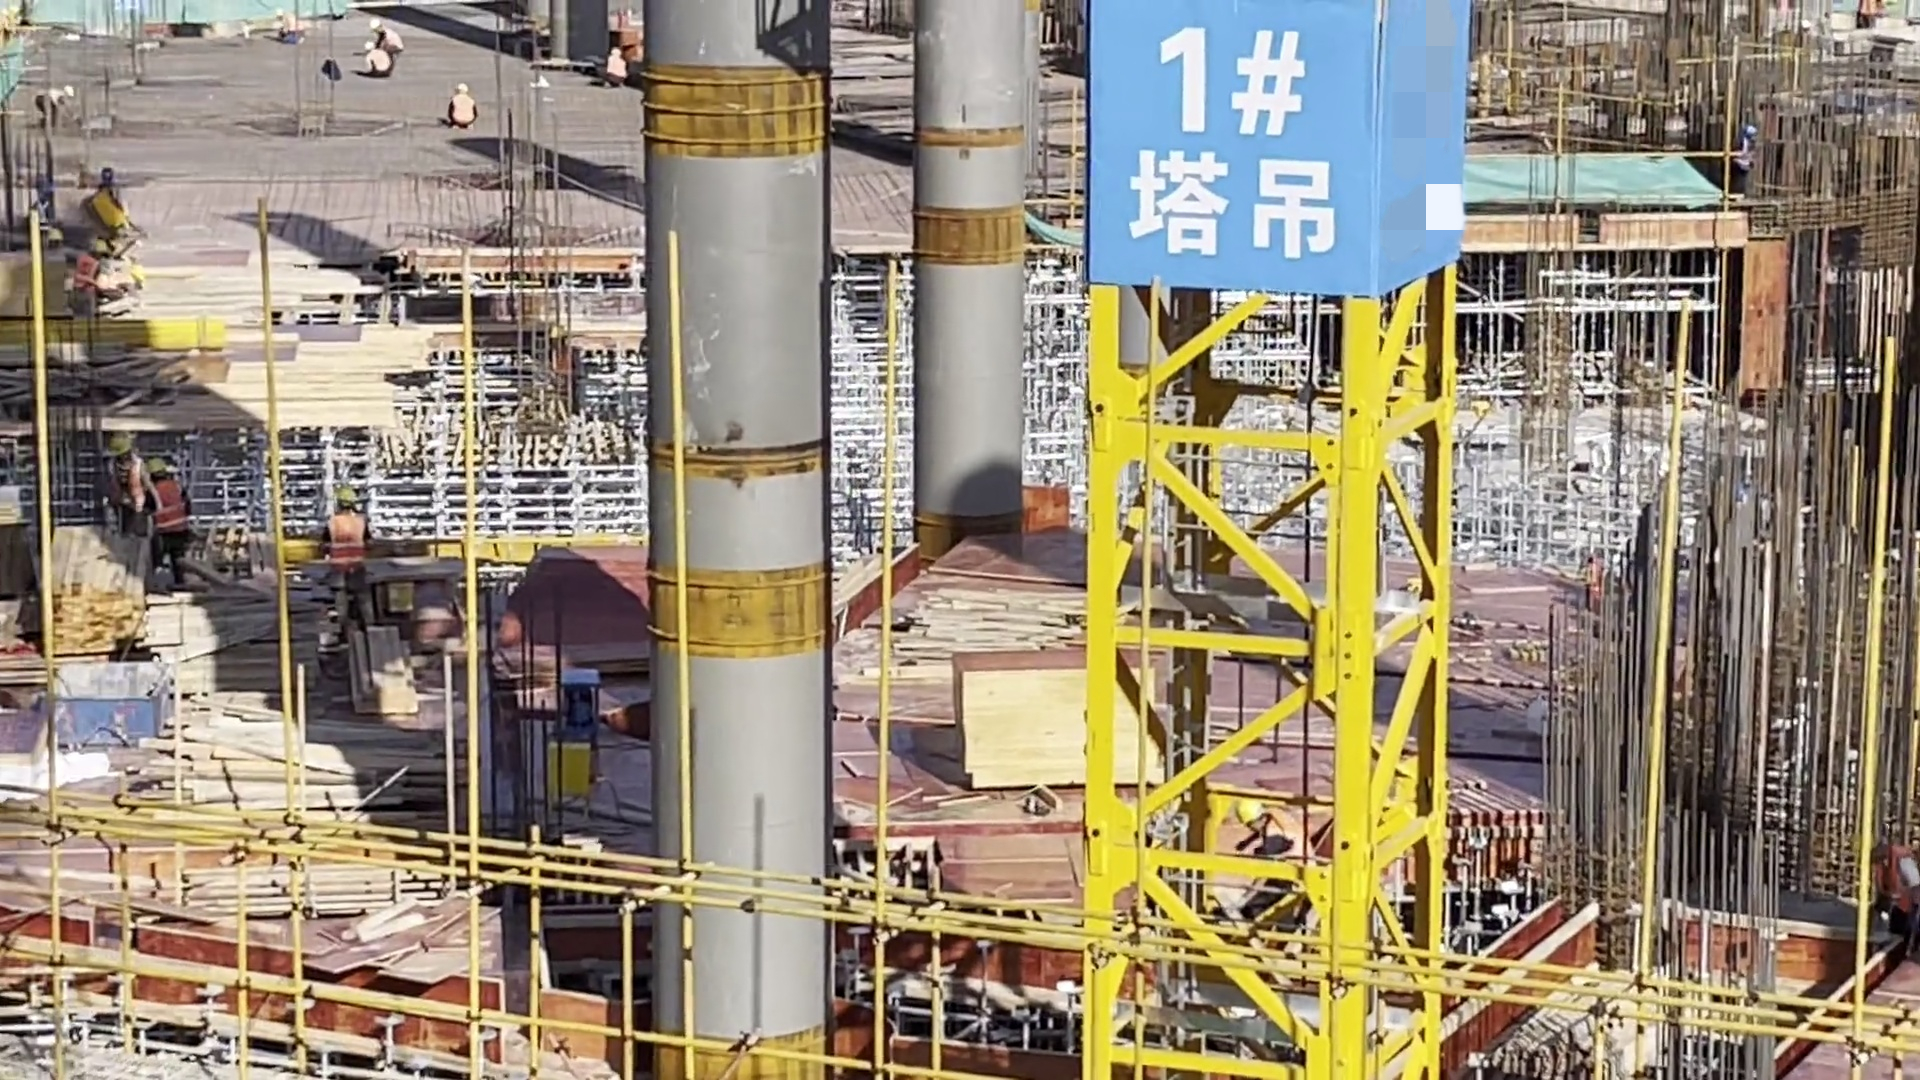helmet: (326, 486, 363, 516), (145, 455, 171, 480), (107, 433, 136, 454), (1739, 122, 1759, 140), (455, 78, 471, 96), (64, 81, 75, 104), (369, 17, 384, 29), (612, 46, 624, 58), (365, 42, 376, 52)
person: (133, 456, 202, 595), (325, 488, 372, 622), (103, 425, 149, 550), (70, 236, 117, 322), (437, 77, 490, 141), (25, 80, 81, 124), (1730, 118, 1765, 186), (368, 13, 404, 56), (362, 40, 394, 83), (600, 49, 633, 90)
vest: (323, 513, 370, 583), (152, 482, 189, 544), (65, 259, 100, 294), (1733, 137, 1759, 174), (452, 97, 475, 126), (604, 54, 627, 82)
